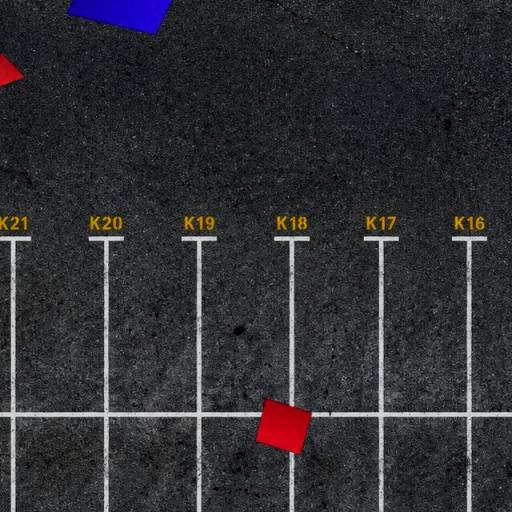RED_SQUARE: (255, 398, 313, 455)
